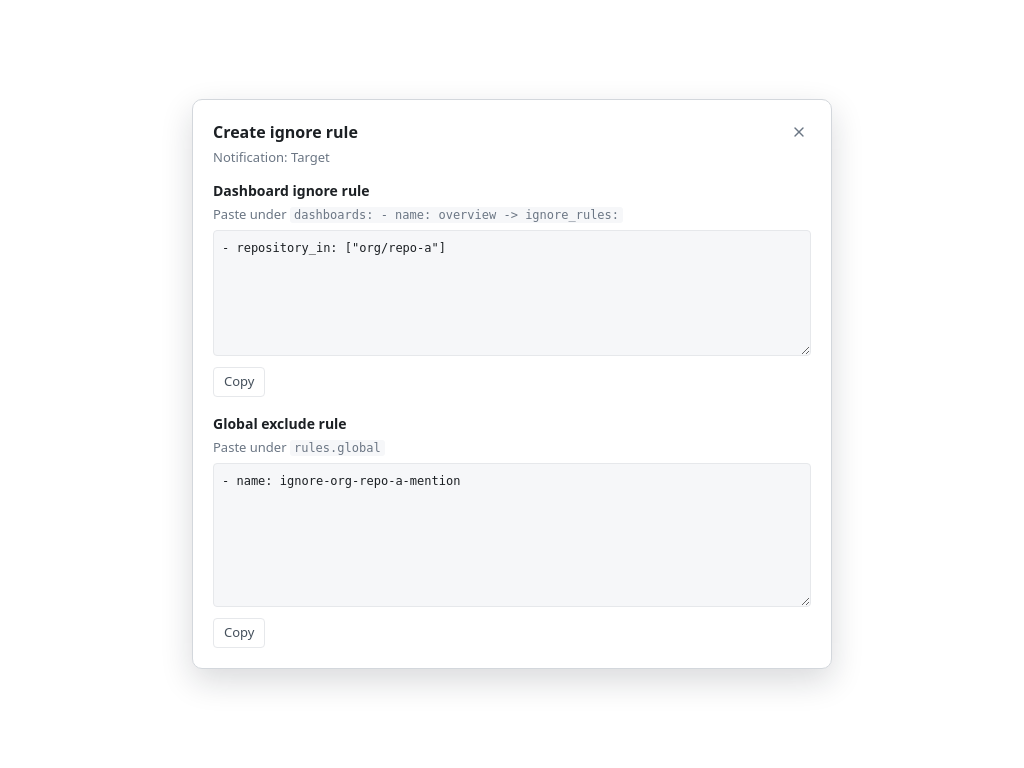
Test case: IgnoreRuleDialog › reports a failure when the clipboard write rejects
What coordinates should you click on to do the following:
click the button "Copy" below "Dashboard ignore rule"
I would click on:
 (239, 382)
Its box is x1=213 y1=367 x2=266 y2=397.
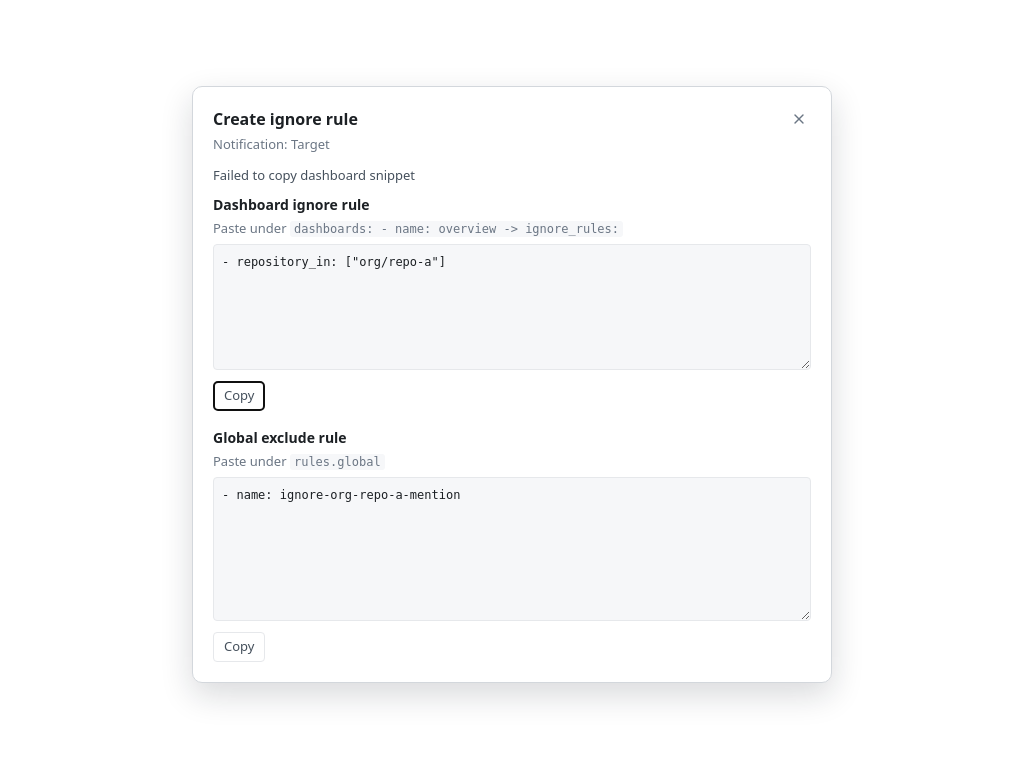
Result: the text "Failed to copy dashboard snippet" is shown at x1=213 y1=166 x2=415 y2=184
